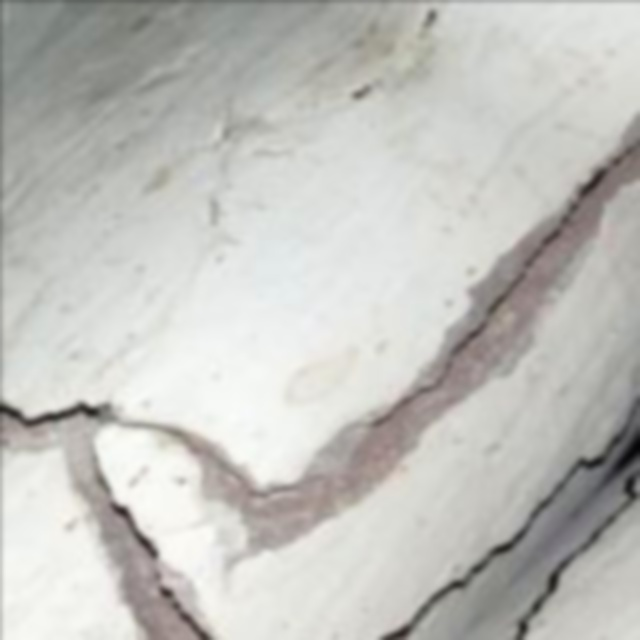SurfaceCrack: (356, 72, 640, 438), (322, 380, 640, 640), (16, 354, 264, 640)
